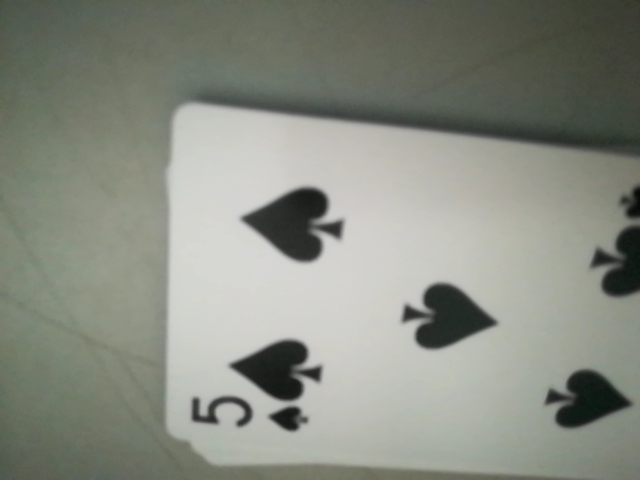ht 5: (181, 390, 321, 449)
